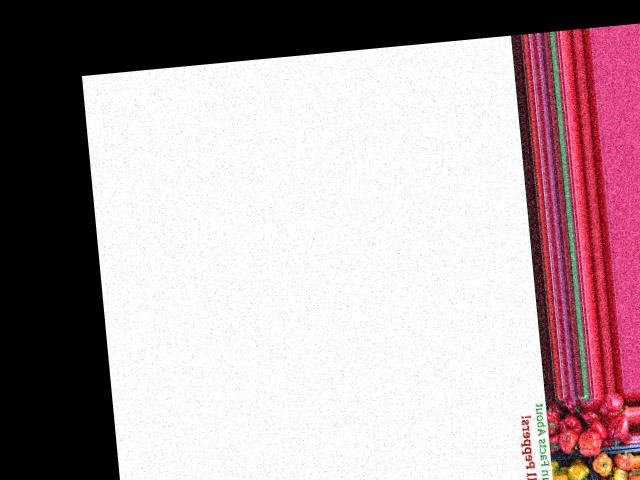bell_pepper: (542, 408, 565, 440)
